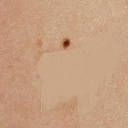Melanoma: (61, 37, 72, 51)
